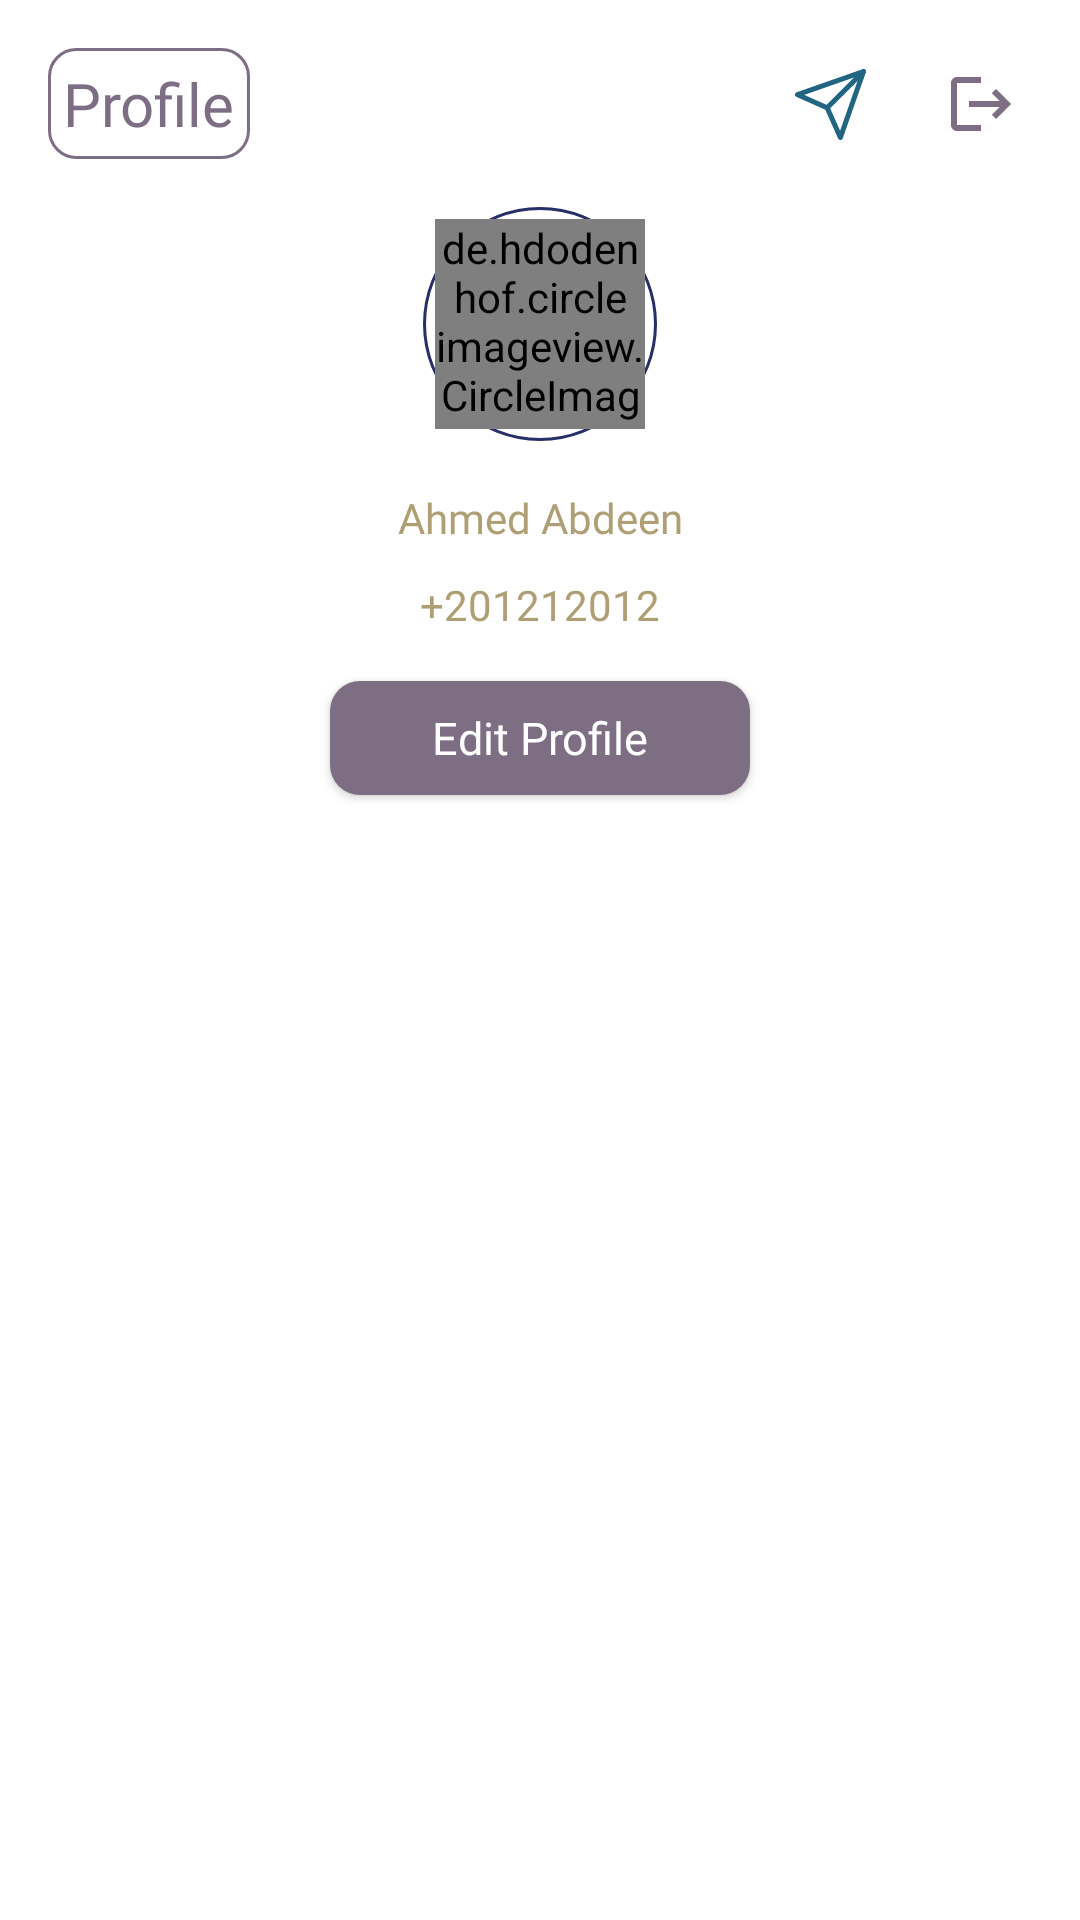

Icon click points for this 1080 x 1920 phone screenshot, format [x,y]:
send: [830,104]
